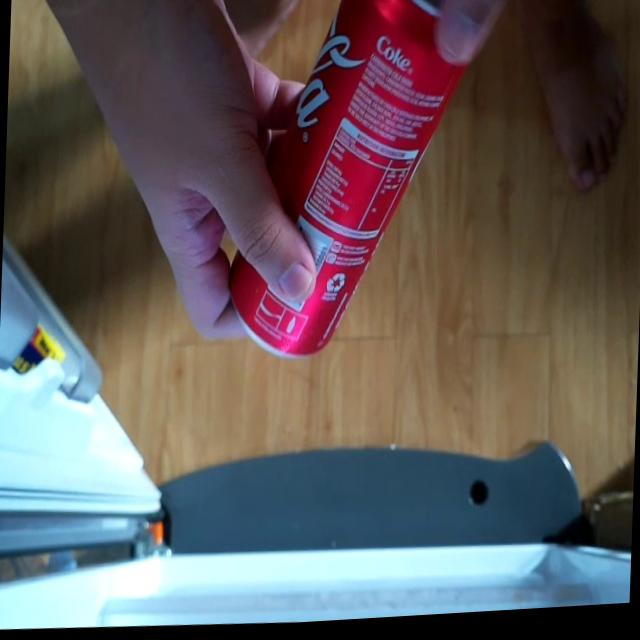coke: (214, 0, 503, 375)
